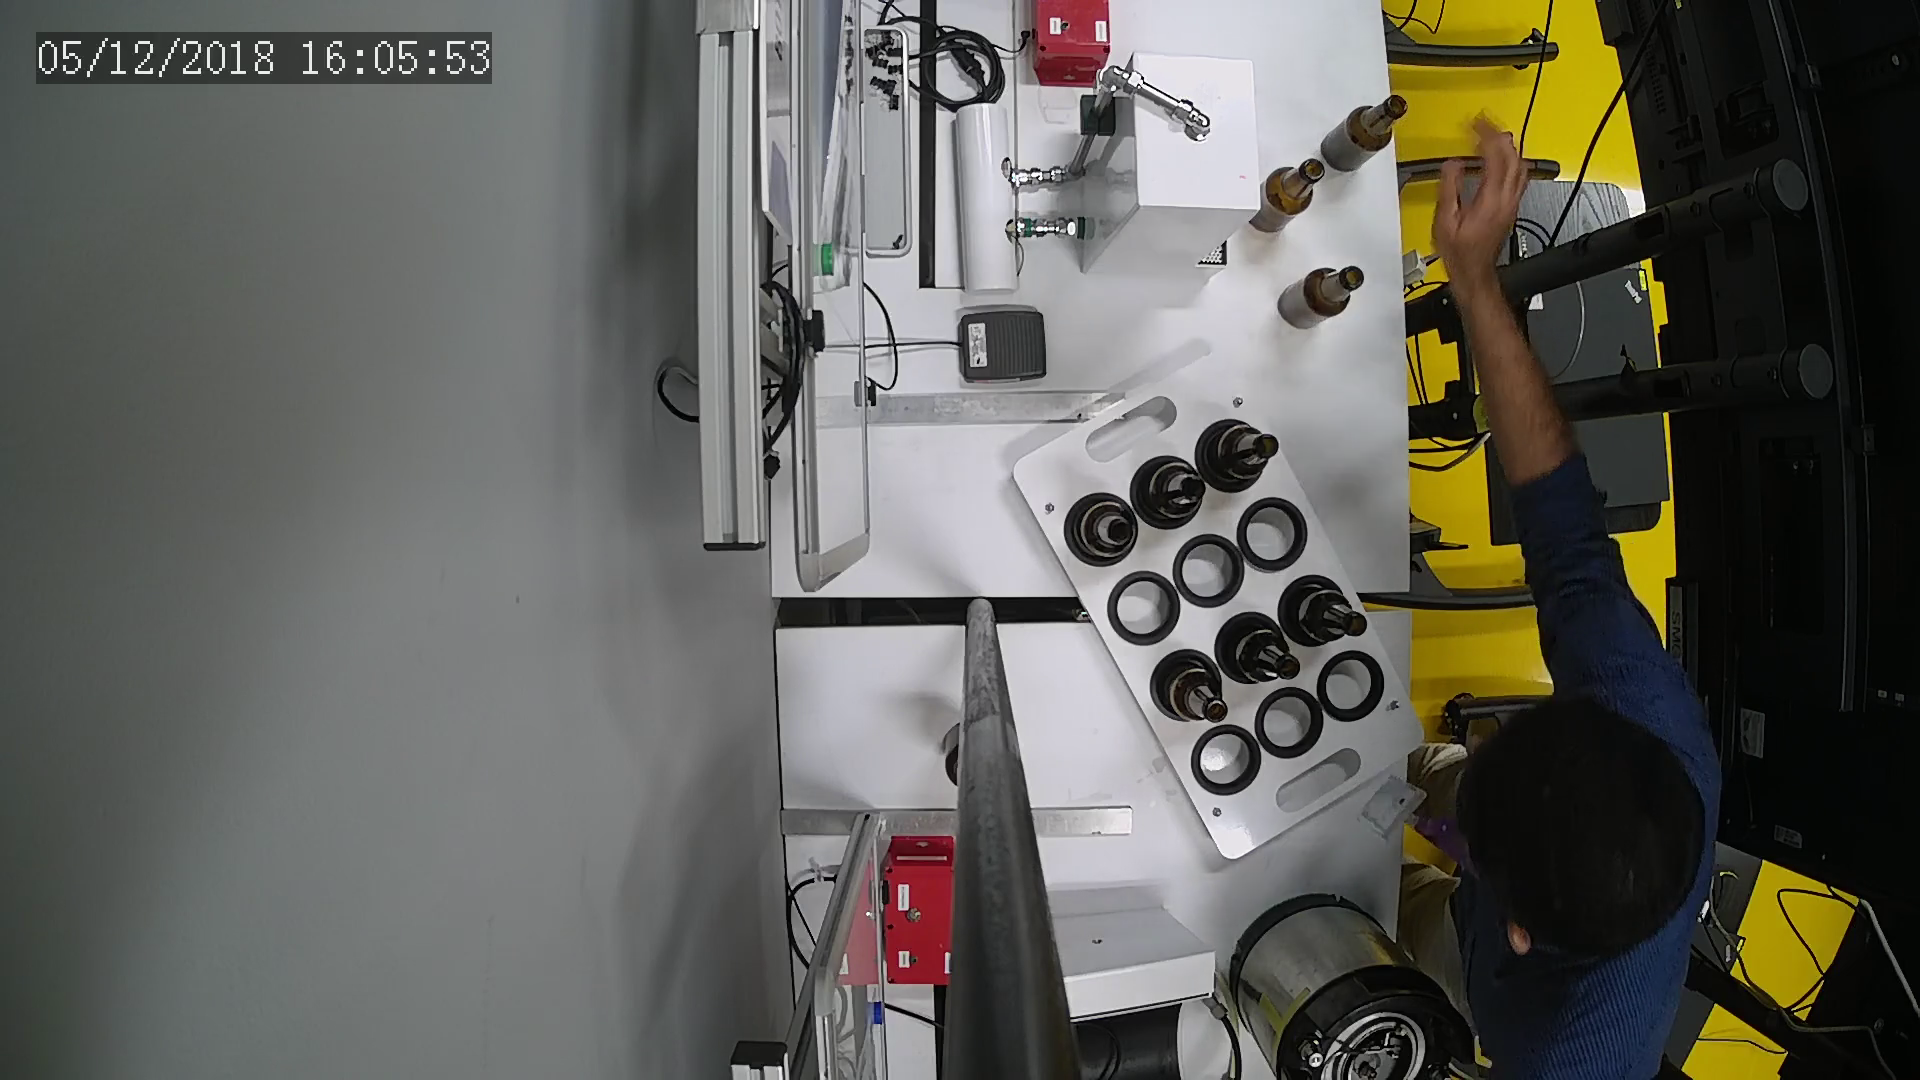filled_bottle: (1218, 615, 1305, 688), (1156, 649, 1229, 728), (1287, 580, 1370, 649), (1069, 493, 1141, 568), (1133, 455, 1207, 524), (1203, 426, 1283, 488)
trolley: (1010, 349, 1428, 861)
unfilled_bottle: (1323, 98, 1406, 174), (1278, 266, 1366, 332), (1251, 157, 1324, 233)
